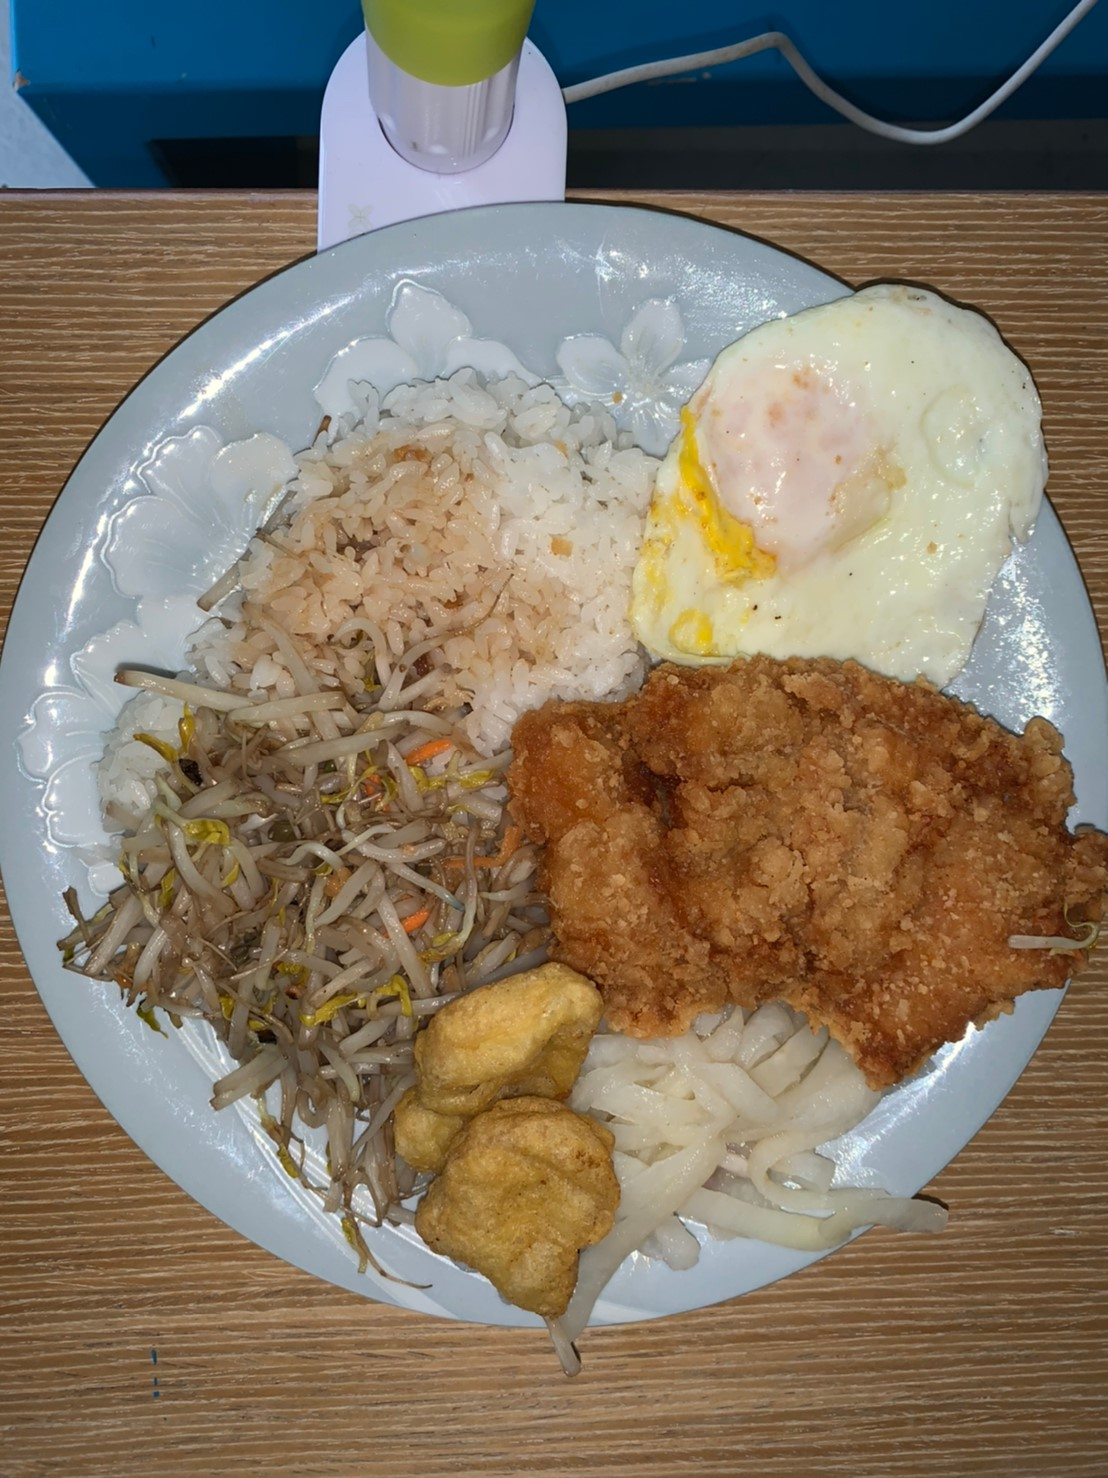chicken_nuggets: (397, 962, 620, 1315)
fried_chicken: (523, 660, 1100, 1071)
fried_eggs: (646, 282, 1037, 678)
mung_bean_sprouts: (152, 697, 448, 1097)
rice: (258, 372, 628, 696)
